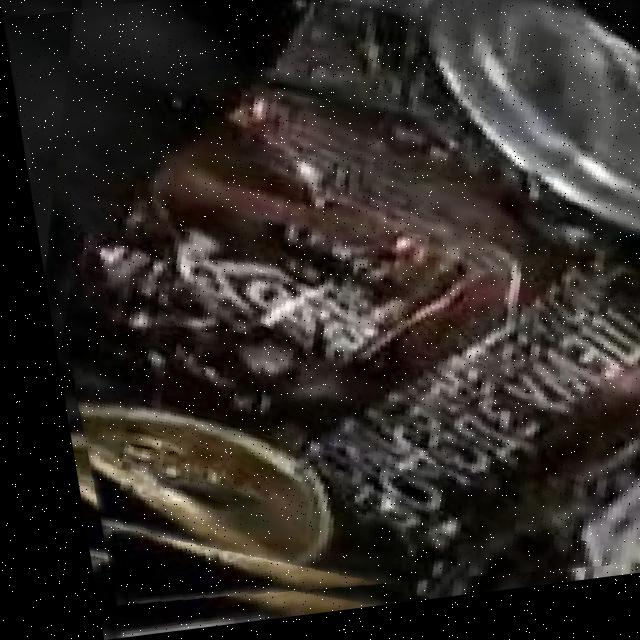can: (40, 0, 640, 596)
